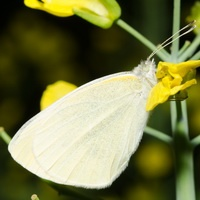insect: (8, 60, 199, 188)
